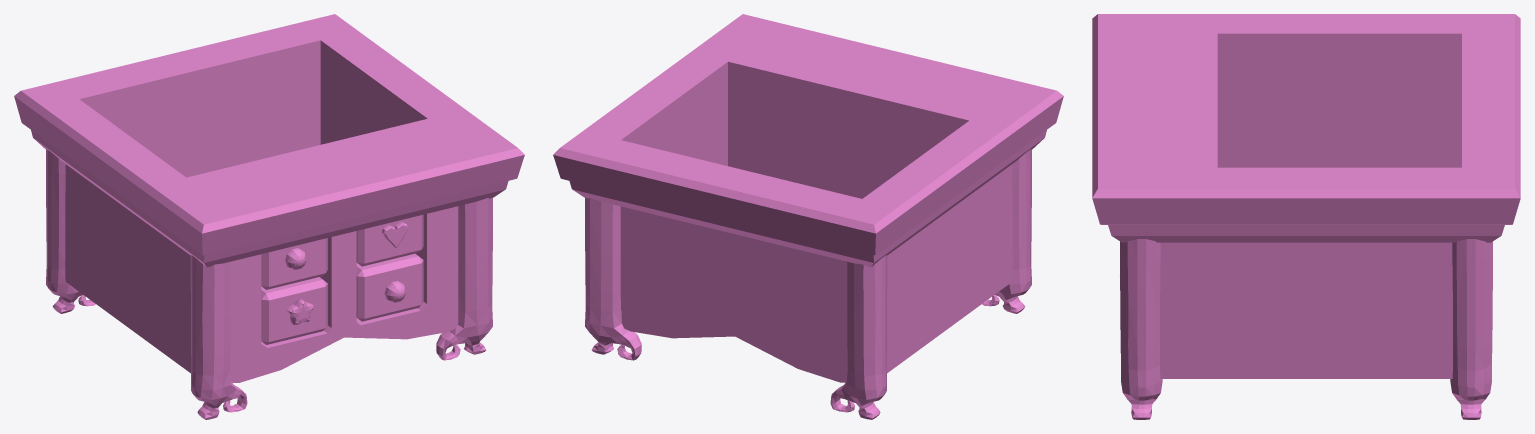
The model's file is ENV_HAU_WORKSTATIONFRYER_MODEL.fbx.
The picture shows the model from 3 angles, left to right: view 1: azimuth 30°, elevation 25°; view 2: azimuth 150°, elevation 25°; view 3: azimuth 270°, elevation 25°; orthographic projection. The views are drawn at different scales.
Visible parts, largest first — view 1: ENV_HAU_WORKSTATIONFRYER_MODEL; view 2: ENV_HAU_WORKSTATIONFRYER_MODEL; view 3: ENV_HAU_WORKSTATIONFRYER_MODEL.
Part boxes in pixels (x1,y1,x2,y2): ENV_HAU_WORKSTATIONFRYER_MODEL: [14, 14, 524, 419]; ENV_HAU_WORKSTATIONFRYER_MODEL: [553, 14, 1063, 419]; ENV_HAU_WORKSTATIONFRYER_MODEL: [1092, 14, 1520, 419].
Size of the model in its own units: 98.78 by 61.77 by 99.6.
